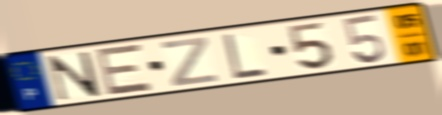5: (284, 21, 336, 71), (341, 12, 387, 65)
E: (94, 42, 156, 98)
L: (221, 32, 270, 81)
N: (45, 50, 104, 103)
Z: (159, 35, 220, 88)
